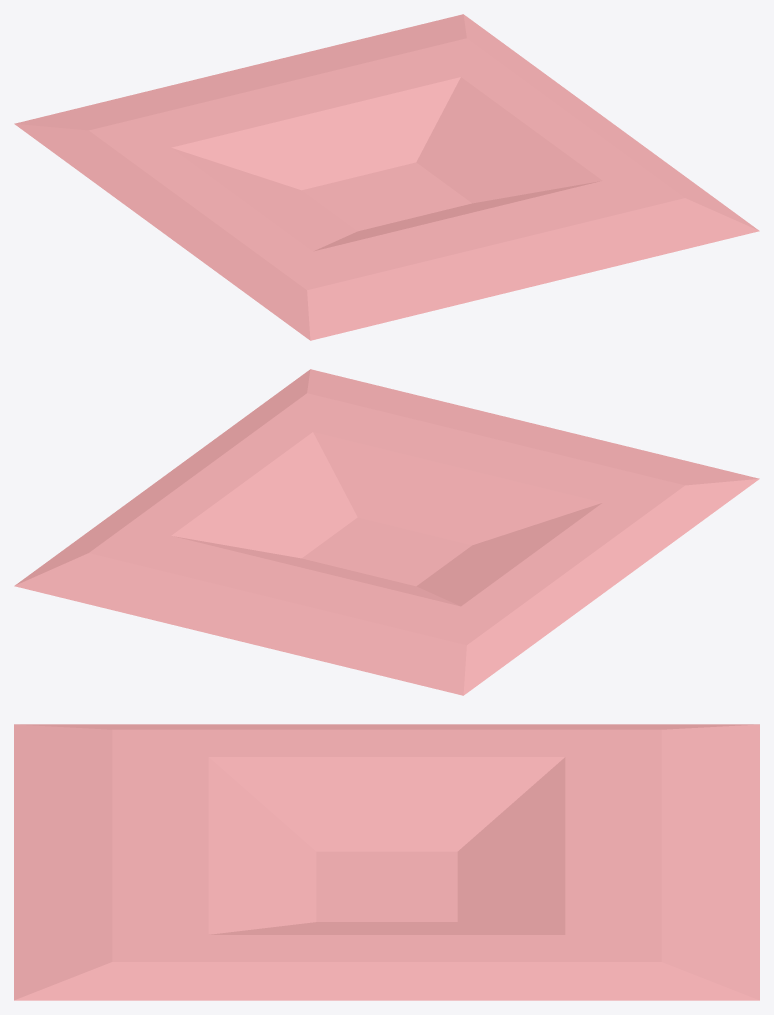
Rendered from fountain.fbx.
3 views of the same model, one above another, from view 1: azimuth 30°, elevation 25°; view 2: azimuth 150°, elevation 25°; view 3: azimuth 270°, elevation 25° (orthographic). The views are drawn at different scales.
Parts seen in each view (by area): view 1: Center; view 2: Center; view 3: Center.
Boxes of the visible parts, x1,y1,x2,y2 form: Center: (14,14,759,340); Center: (14,369,759,695); Center: (14,724,759,1000).
Size of the model in its own units: 9529 by 661 by 10884.
